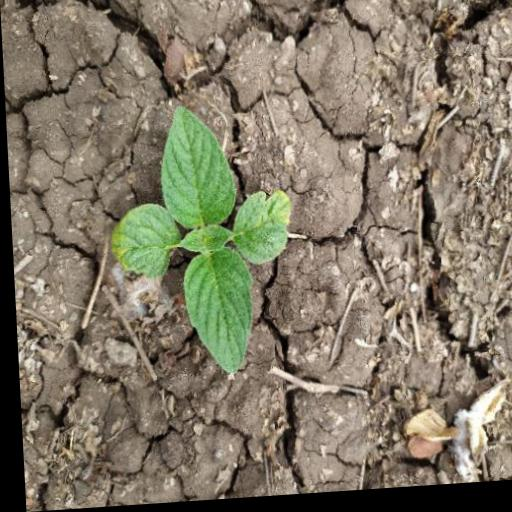crop: (96, 97, 301, 400)
